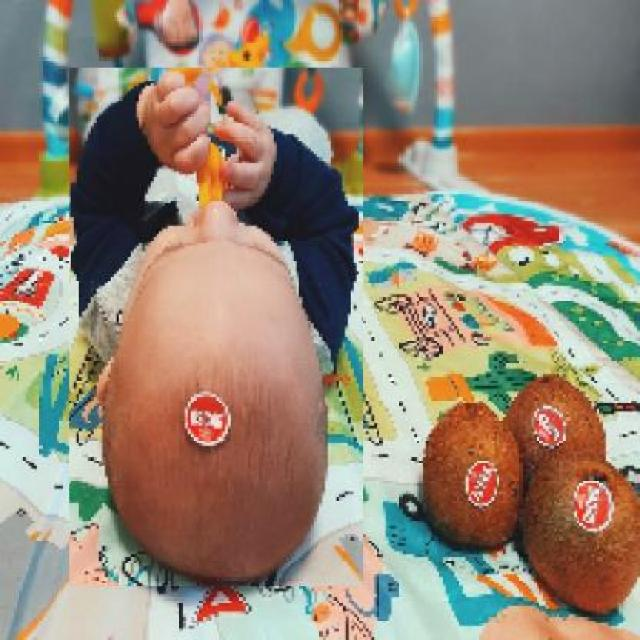child: (68, 69, 363, 588)
